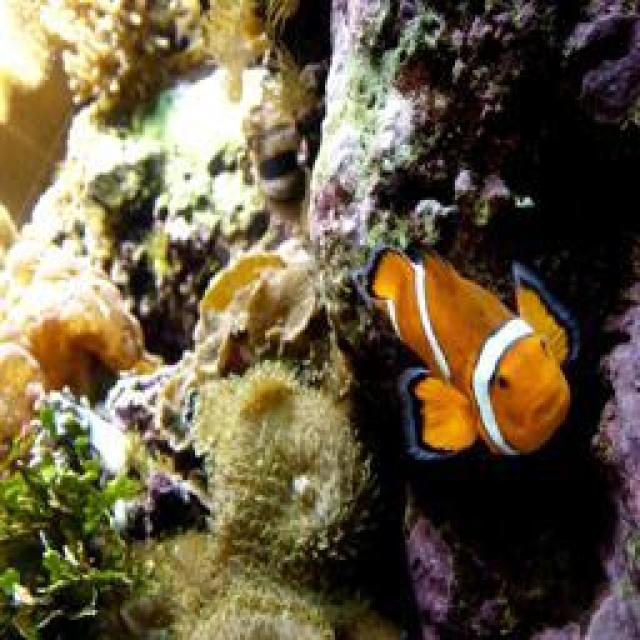fish: (366, 249, 579, 460), (235, 380, 306, 418)
reefs: (130, 343, 379, 638), (0, 396, 153, 638)
